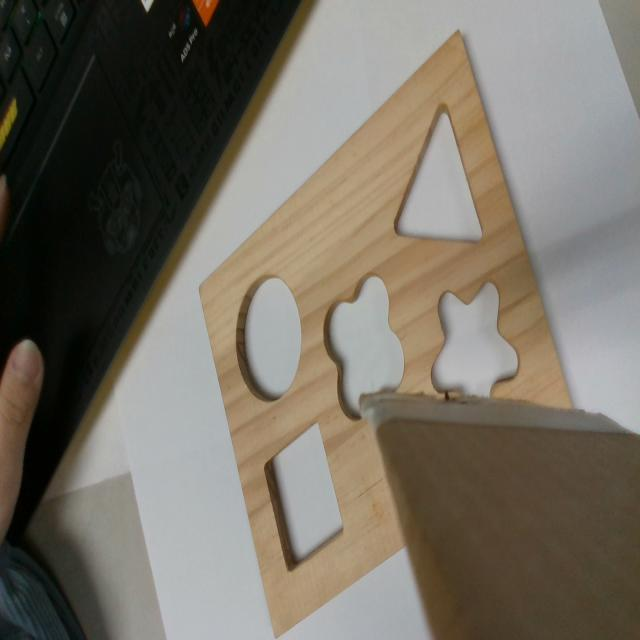circle: (234, 274, 301, 405)
flower: (321, 274, 404, 415)
square: (263, 420, 346, 571)
star: (432, 279, 519, 397)
triangle: (392, 102, 484, 243)
